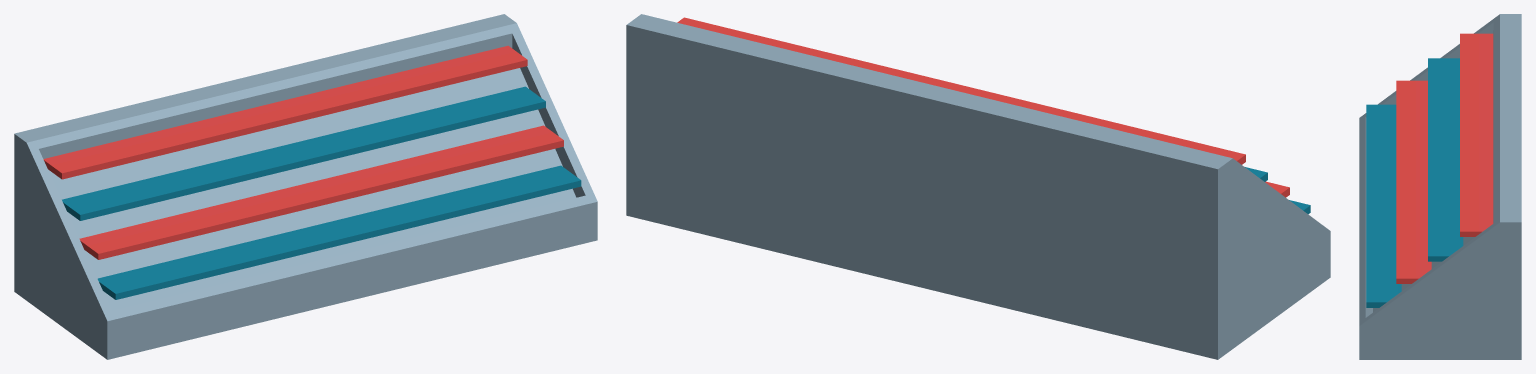
File: STADIUM_Bench_2_Mesh.fbx
3 views of the same model, side by side, from view 1: azimuth 30°, elevation 25°; view 2: azimuth 150°, elevation 25°; view 3: azimuth 270°, elevation 25° (orthographic). The views are drawn at different scales.
Visible parts, largest first — view 1: STADIUM_Bench_2_Mesh; view 2: STADIUM_Bench_2_Mesh; view 3: STADIUM_Bench_2_Mesh.
Boxes of the visible parts, x1,y1,x2,y2 form: STADIUM_Bench_2_Mesh: [14, 14, 597, 359]; STADIUM_Bench_2_Mesh: [626, 14, 1330, 359]; STADIUM_Bench_2_Mesh: [1359, 14, 1521, 359].
Size of the model in its own units: 140 by 43.13 by 46.14.
